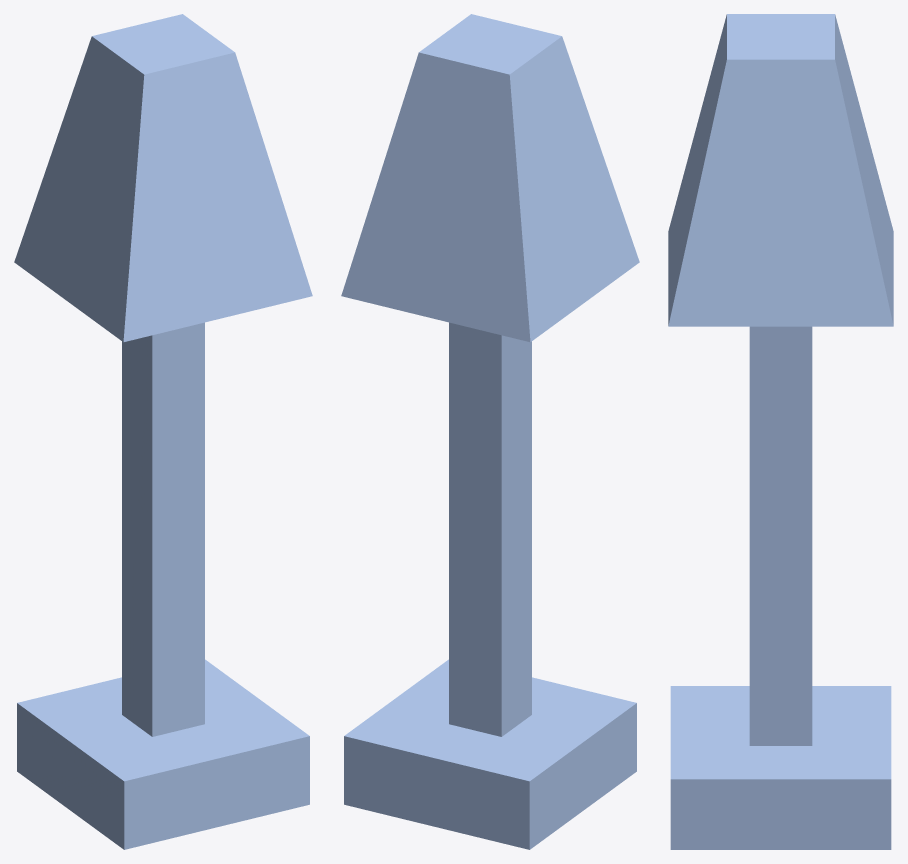
The picture shows the model from 3 angles, left to right: view 1: azimuth 30°, elevation 25°; view 2: azimuth 150°, elevation 25°; view 3: azimuth 270°, elevation 25°; orthographic projection. The views are drawn at different scales.
Visible parts, largest first — view 1: OB3_1; view 2: OB3_1; view 3: OB3_1.
Part boxes in pixels (box(x1,y1,x2,y2)): OB3_1: box(14, 14, 312, 849); OB3_1: box(341, 14, 639, 849); OB3_1: box(668, 14, 893, 849).
Size of the model in its own units: 0.5787 by 2.17 by 0.5787.
1 material, 1 textured.
